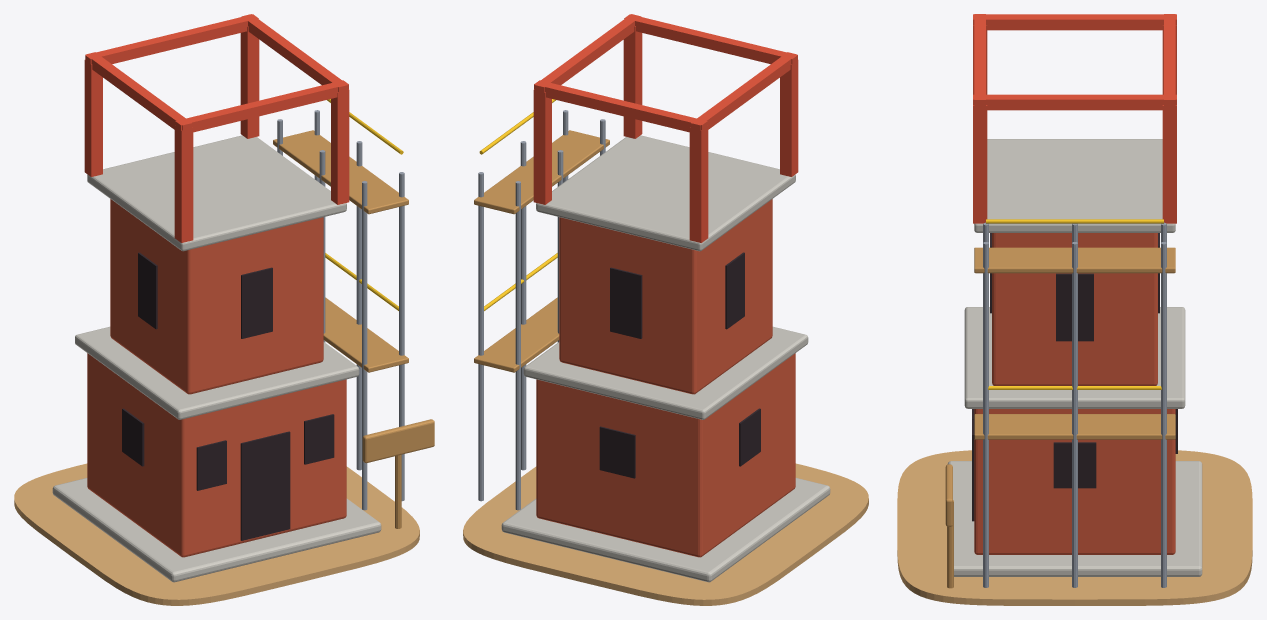
File: clock-tower-stage-2.8dfd1552.glb
The picture shows the model from 3 angles, left to right: view 1: azimuth 30°, elevation 25°; view 2: azimuth 150°, elevation 25°; view 3: azimuth 270°, elevation 25°; orthographic projection. The views are drawn at different scales.
Visible parts, largest first — view 1: ClockTower_Stage2__T_brickwall, ClockTower_Stage2__T_concrete, ClockTower_Stage2__T_dirt, ClockTower_Stage2__T_beam, ClockTower_Stage2__T_opening, ClockTower_Stage2__T_wood, ClockTower_Stage2__T_steel, ClockTower_Stage2__T_yellow; view 2: ClockTower_Stage2__T_brickwall, ClockTower_Stage2__T_concrete, ClockTower_Stage2__T_dirt, ClockTower_Stage2__T_beam, ClockTower_Stage2__T_steel, ClockTower_Stage2__T_opening, ClockTower_Stage2__T_wood, ClockTower_Stage2__T_yellow; view 3: ClockTower_Stage2__T_brickwall, ClockTower_Stage2__T_concrete, ClockTower_Stage2__T_dirt, ClockTower_Stage2__T_beam, ClockTower_Stage2__T_wood, ClockTower_Stage2__T_steel, ClockTower_Stage2__T_opening, ClockTower_Stage2__T_yellow.
Part boxes in pixels (x1,y1,x2,y2): ClockTower_Stage2__T_brickwall: (87, 199, 346, 557); ClockTower_Stage2__T_concrete: (52, 135, 381, 582); ClockTower_Stage2__T_dirt: (14, 463, 419, 605); ClockTower_Stage2__T_beam: (84, 14, 349, 242); ClockTower_Stage2__T_opening: (122, 252, 334, 540); ClockTower_Stage2__T_wood: (273, 130, 434, 528); ClockTower_Stage2__T_steel: (277, 110, 404, 510); ClockTower_Stage2__T_yellow: (325, 99, 403, 310); ClockTower_Stage2__T_brickwall: (536, 199, 795, 557); ClockTower_Stage2__T_concrete: (501, 135, 830, 582); ClockTower_Stage2__T_dirt: (463, 463, 868, 605); ClockTower_Stage2__T_beam: (533, 14, 798, 242); ClockTower_Stage2__T_steel: (478, 110, 605, 510); ClockTower_Stage2__T_opening: (599, 252, 760, 478); ClockTower_Stage2__T_wood: (474, 130, 609, 372); ClockTower_Stage2__T_yellow: (479, 99, 557, 310); ClockTower_Stage2__T_brickwall: (974, 233, 1175, 554); ClockTower_Stage2__T_concrete: (947, 139, 1202, 576); ClockTower_Stage2__T_dirt: (897, 450, 1252, 605); ClockTower_Stage2__T_beam: (973, 14, 1176, 223); ClockTower_Stage2__T_wood: (945, 247, 1175, 588); ClockTower_Stage2__T_steel: (983, 222, 1166, 587); ClockTower_Stage2__T_opening: (972, 233, 1177, 521); ClockTower_Stage2__T_yellow: (986, 219, 1163, 389).
Size of the model in its own units: 4.98 by 7.06 by 4.8.
